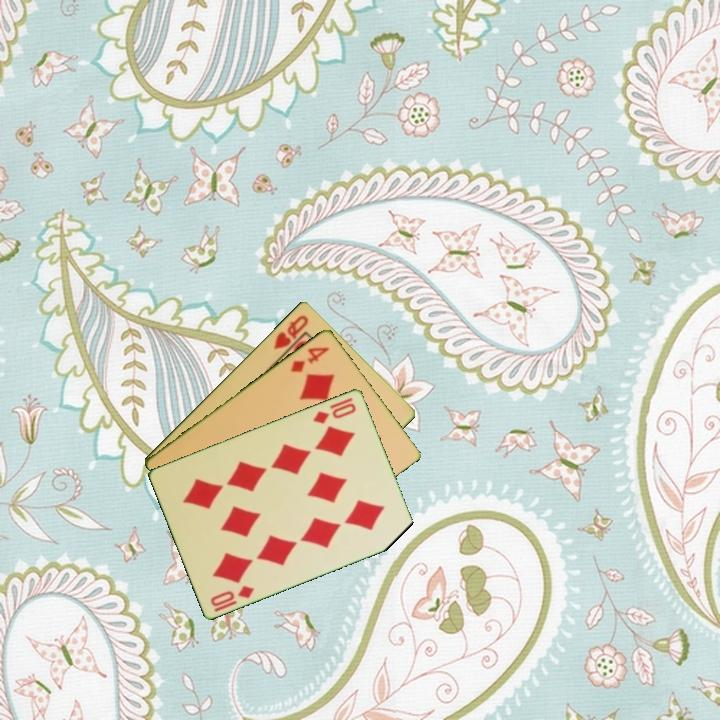10d: (207, 581, 257, 609), (309, 399, 359, 426)
4d: (287, 343, 332, 375)
Qh: (270, 311, 312, 352)
